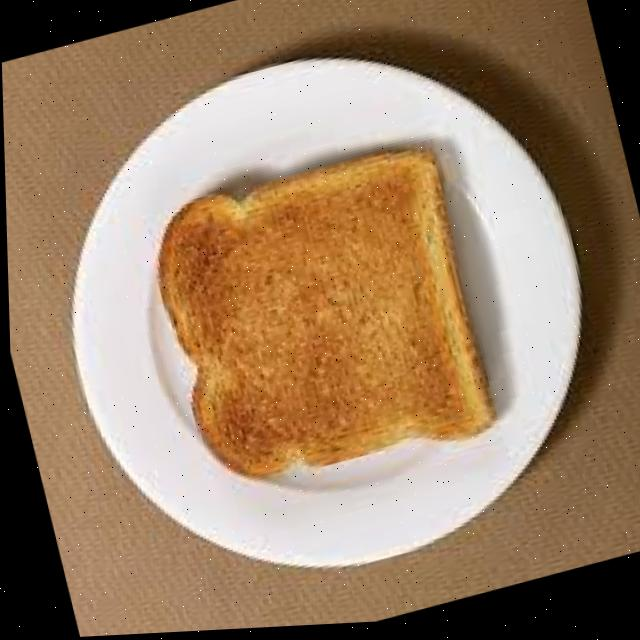Bread: (158, 154, 486, 480)
